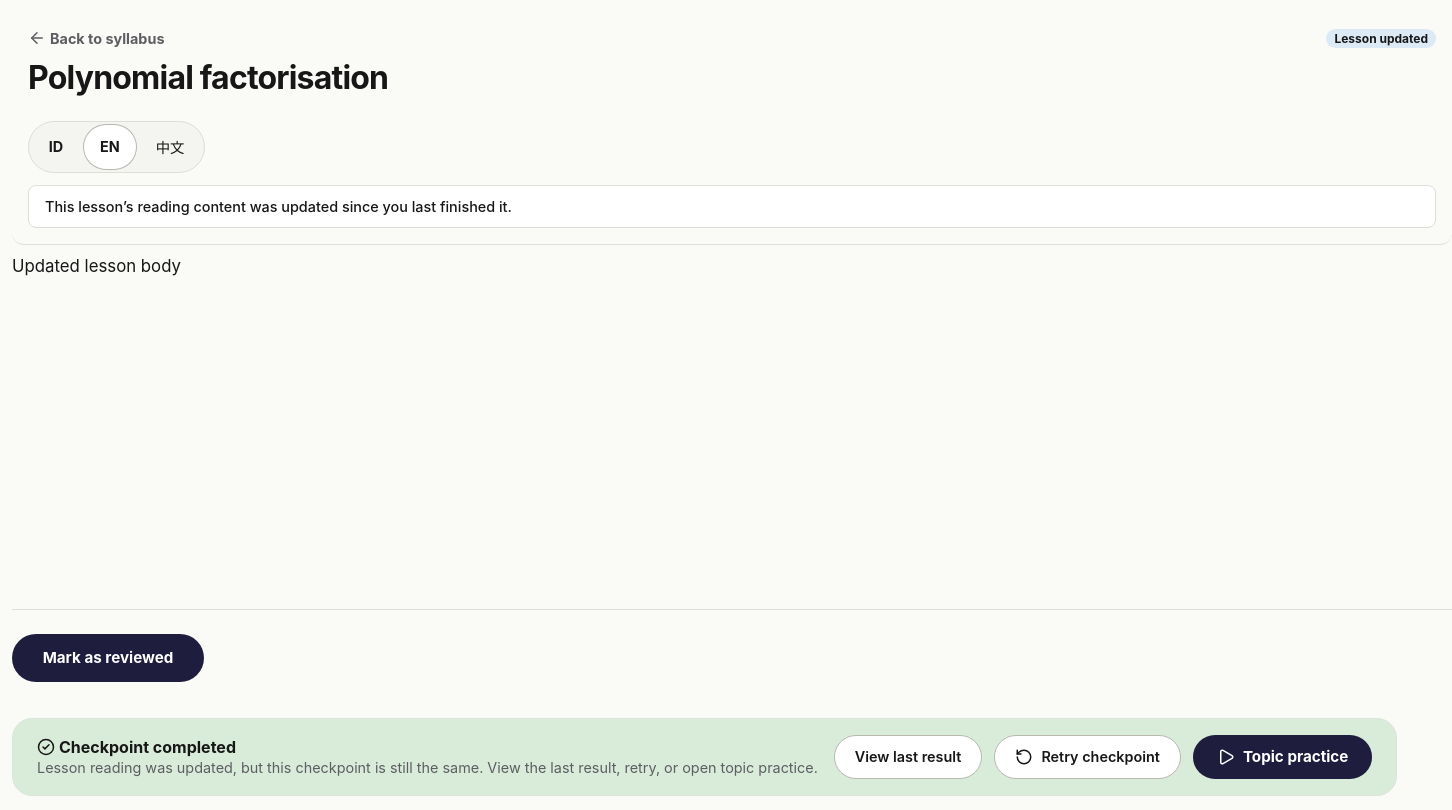
it: shows soft update banner and review action when content republished after complete
The width and height of the screenshot is (1452, 810).
Expected: the text "Updated lesson body" is shown, [12,256,181,276]
Expected: the text "This lesson’s reading content was updated since you last finished it." is shown, [28,185,1436,228]
Click the button "Mark as reviewed" at (108, 658), box [12,634,204,682]
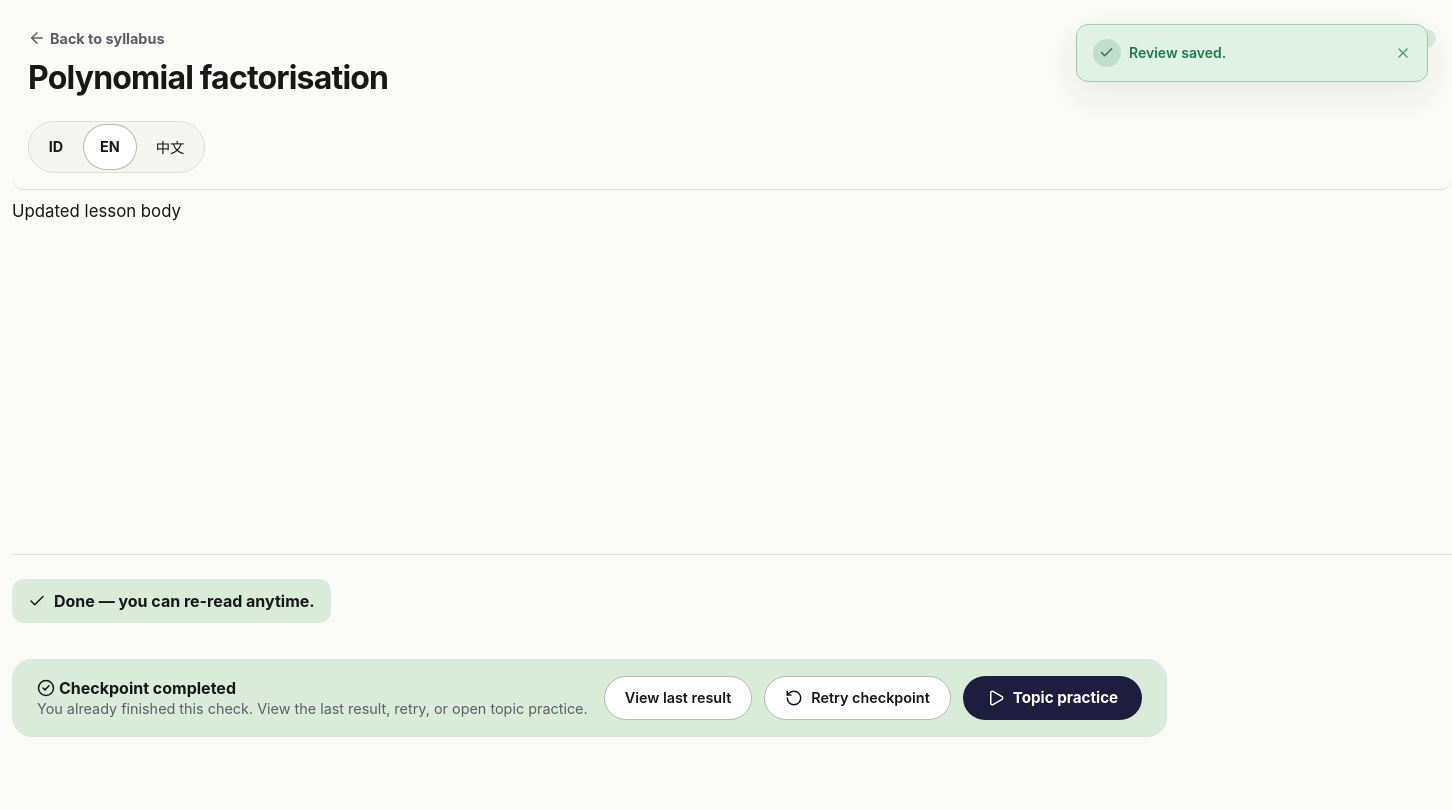
Expected: the text "updated since you last finished" is gone
Expected: the text "Done" is shown, [1389,28,1436,48]
